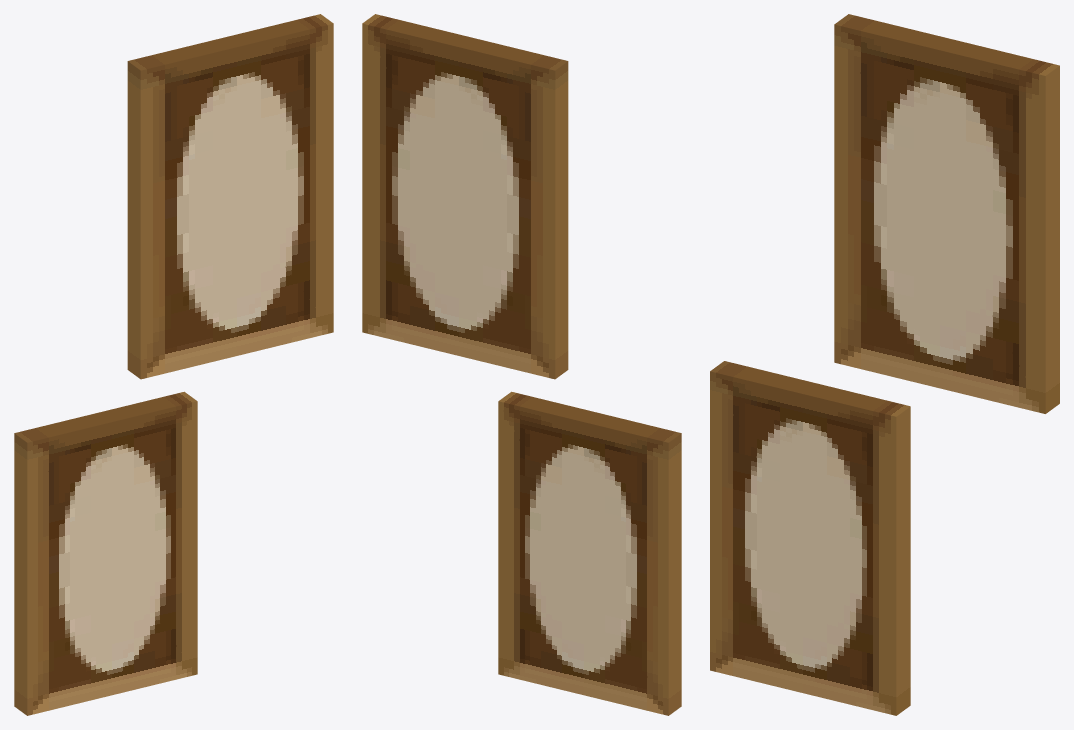
Rendered from pic34-1.glb.
The picture shows the model from 3 angles, left to right: view 1: azimuth 30°, elevation 25°; view 2: azimuth 150°, elevation 25°; view 3: azimuth 330°, elevation 25°; orthographic projection. The views are drawn at different scales.
Visible parts, largest first — view 1: pic34_1; view 2: pic34_1; view 3: pic34_1.
Part boxes in pixels (x1,y1,x2,y2): pic34_1: (14,14,333,715); pic34_1: (362,14,681,715); pic34_1: (710,14,1059,715).
Size of the model in its own units: 135 by 260 by 10.
1 material, 1 textured.
